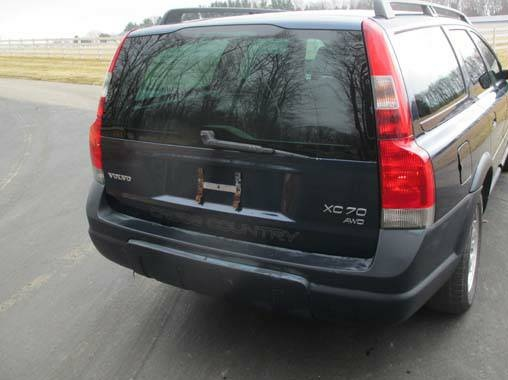volvo: (8, 2, 508, 339)
